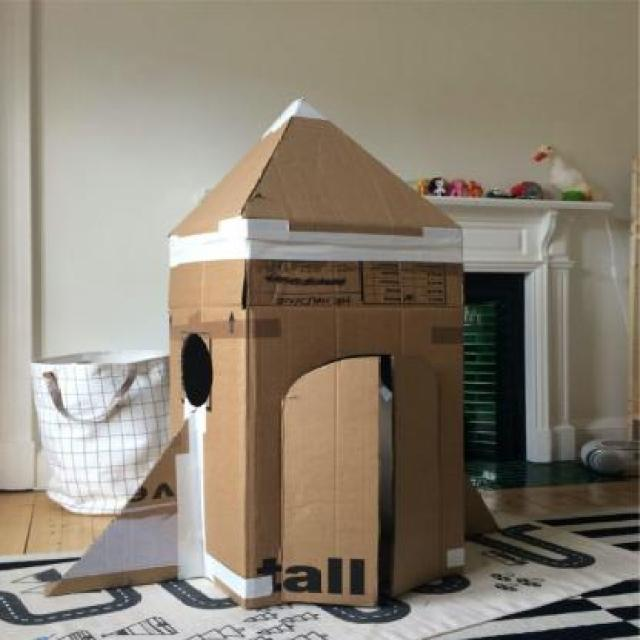box: (150, 85, 530, 623)
